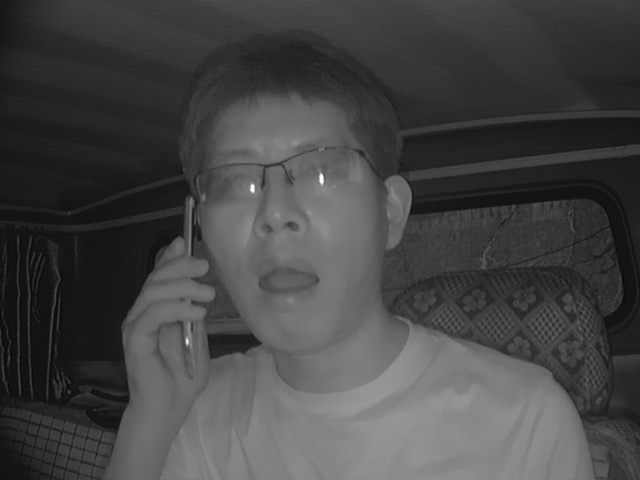hand: (102, 238, 219, 413)
